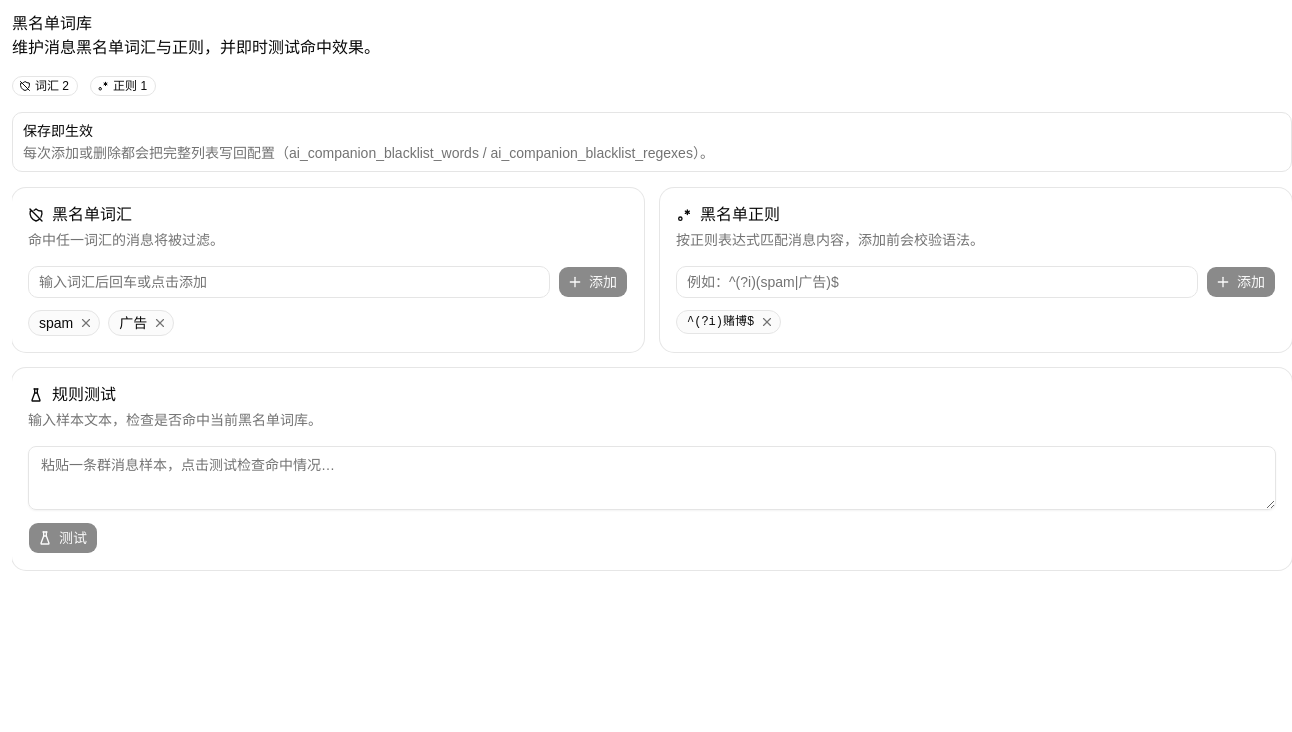
Test: blacklist workspace › shows unmatched state for clean text
Type "正常消息" into the text box named "测试文本" at (652, 478), box left=28, top=446, right=1276, bottom=510
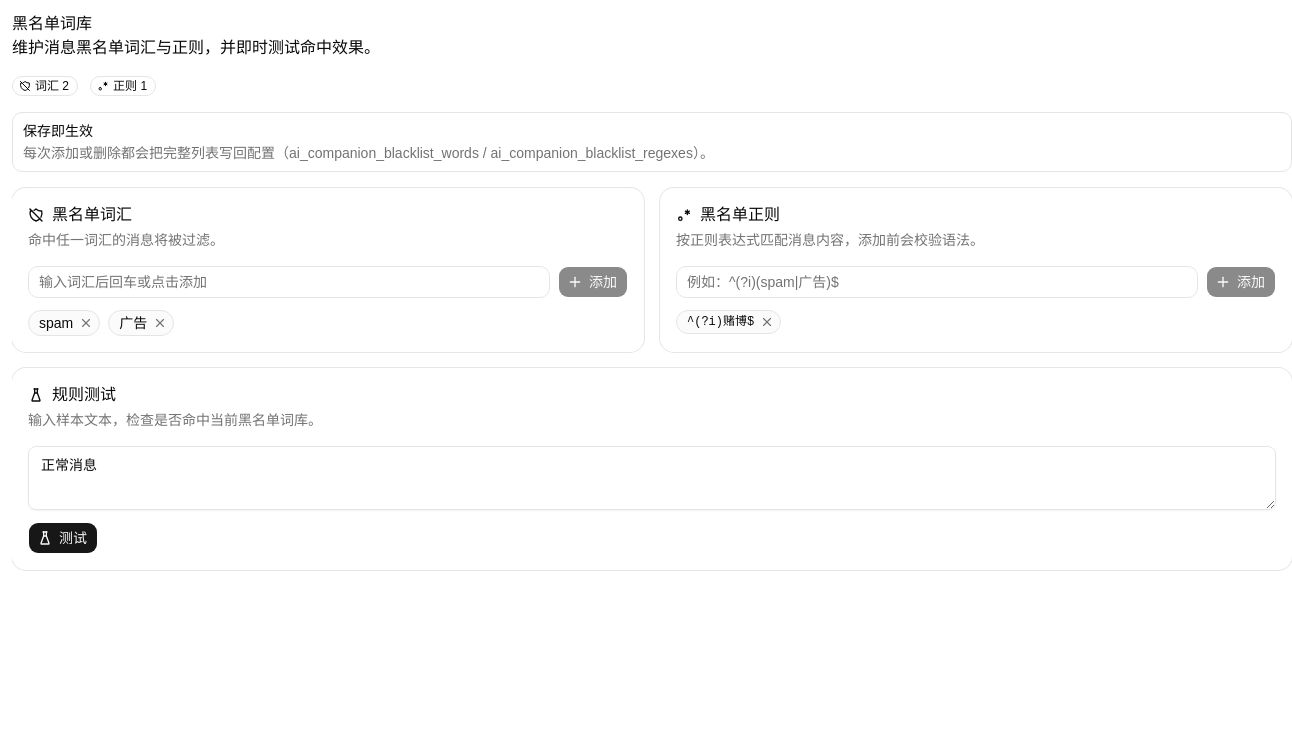
Click the button "测试" at (63, 538), box left=28, top=522, right=98, bottom=554
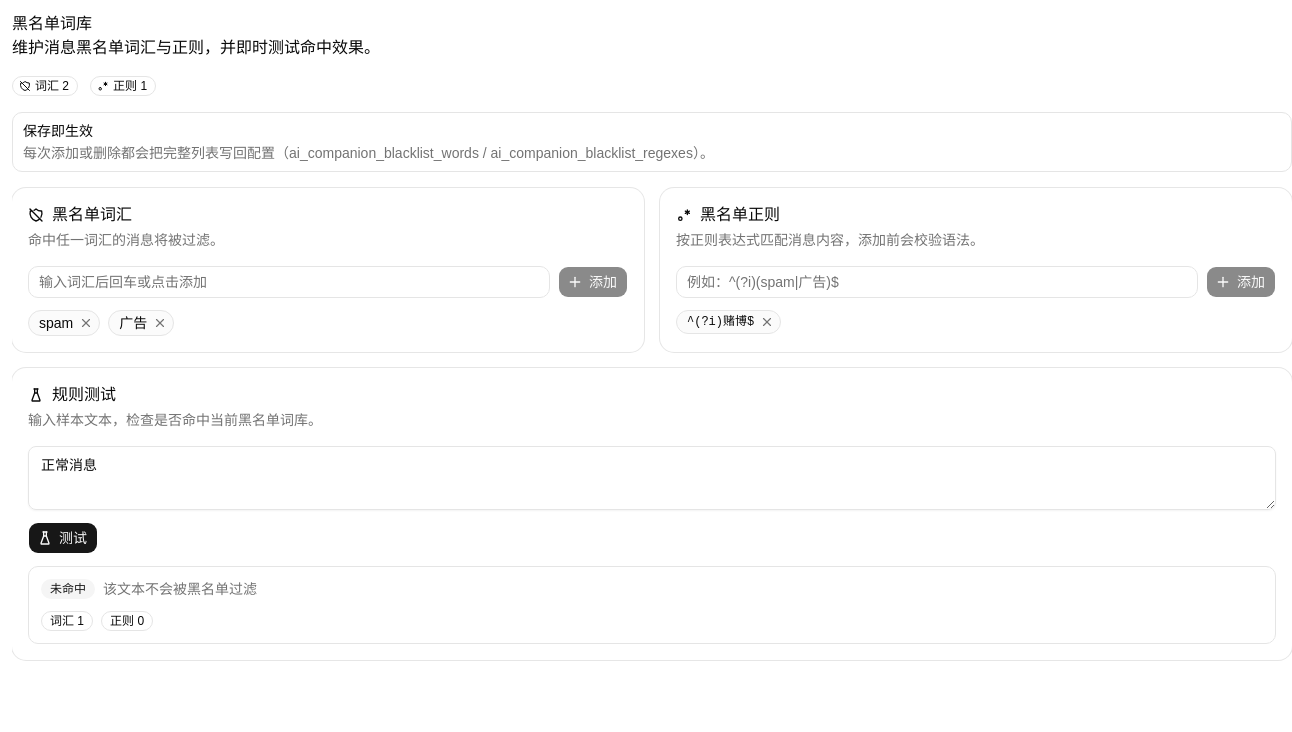
Expected: the icon "未命中" is shown, left=41, top=579, right=95, bottom=599
Expected: the text "该文本不会被黑名单过滤" is shown, left=103, top=579, right=257, bottom=599
